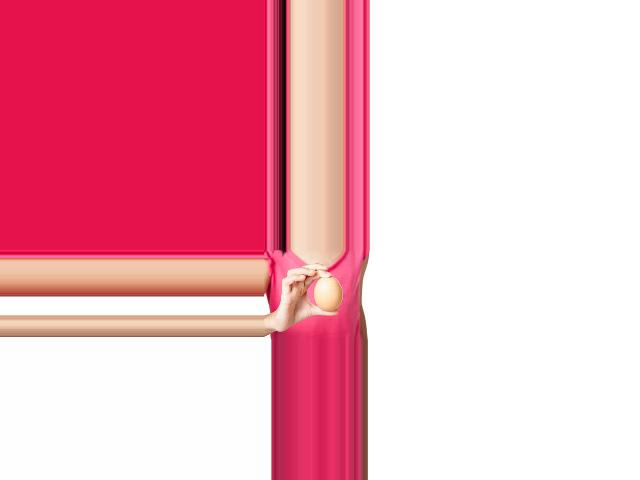egg: (313, 275, 342, 311)
